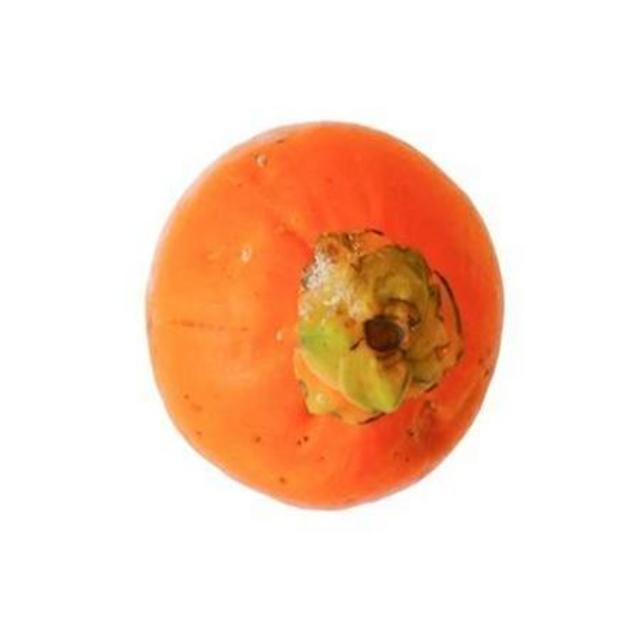good: (142, 123, 506, 512)
